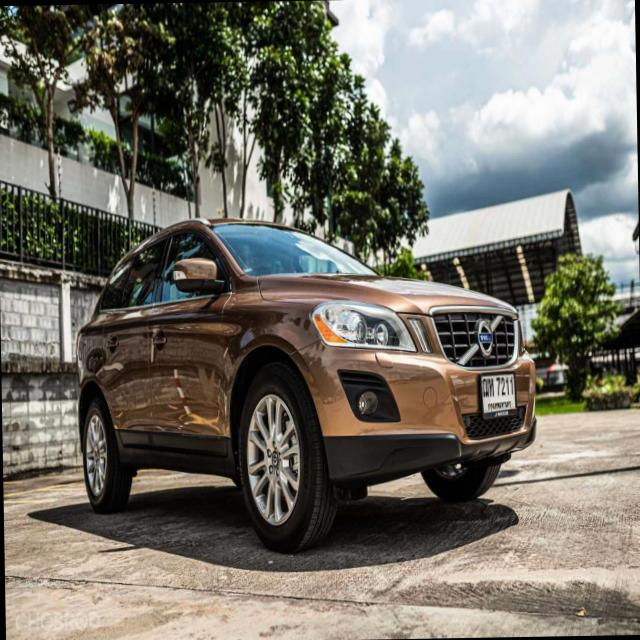license_plate: (476, 364, 517, 432)
